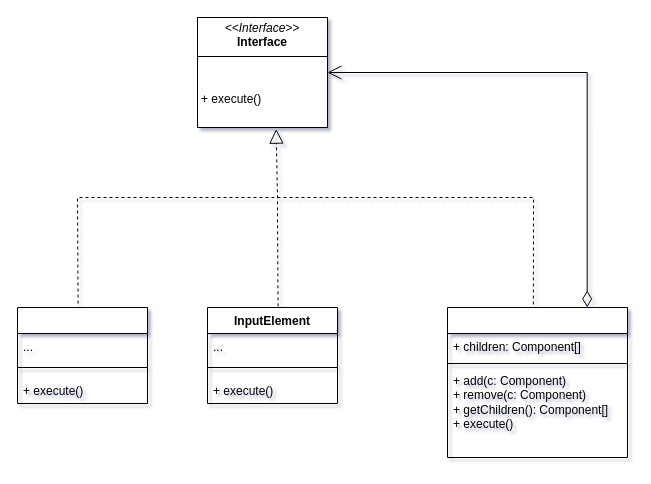
This 651x484 diagram has some shape labels left out. The shapes that lost their labels are listed below. From the top down, each one's box as (x1, y1, x2, y2) in pixels, then its label:
(16, 306, 148, 404): buttonElement
(446, 306, 628, 458): Div
